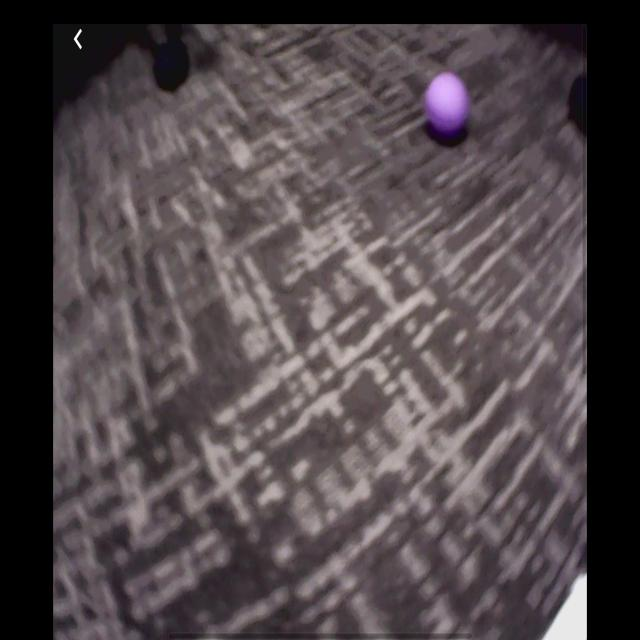ball: (427, 74, 470, 139)
